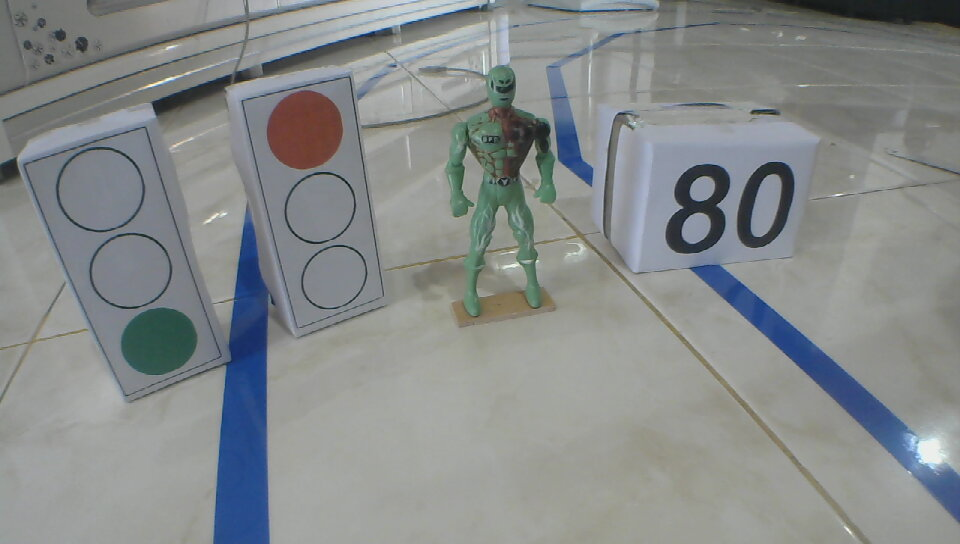Green Light: (57, 146, 196, 376)
Person: (443, 64, 556, 321)
Red Light: (267, 90, 367, 313)
Speed 80: (663, 162, 794, 258)
